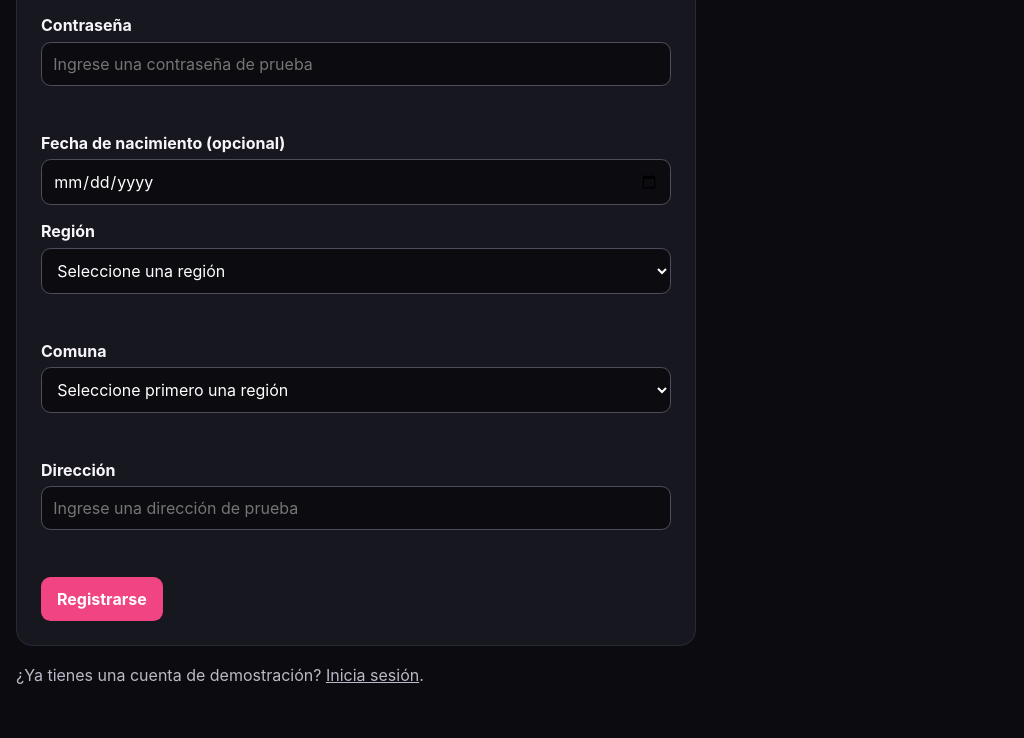
Test case: RegistroPage › muestra el error del RUN al enviar el formulario vacío
(page scrolled)
Step 1. Click the button "Registrarse" → (102,599), box [41,577,163,621]
(page scrolled)
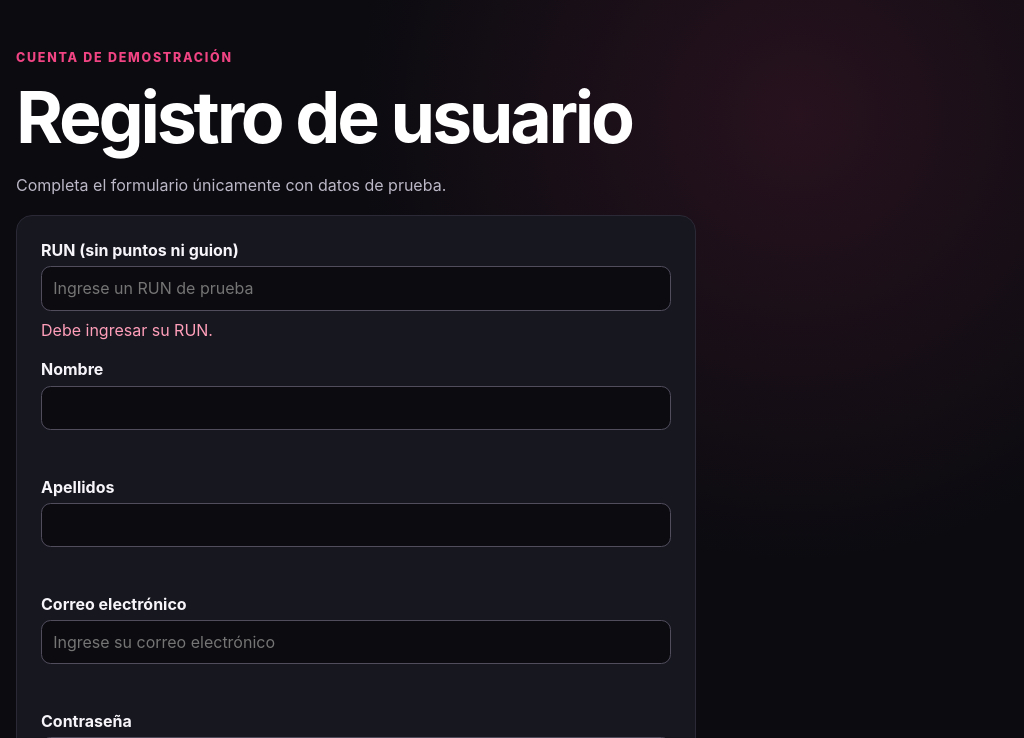
Expected: the text "Debe ingresar su RUN." is shown, [41,320,213,340]
